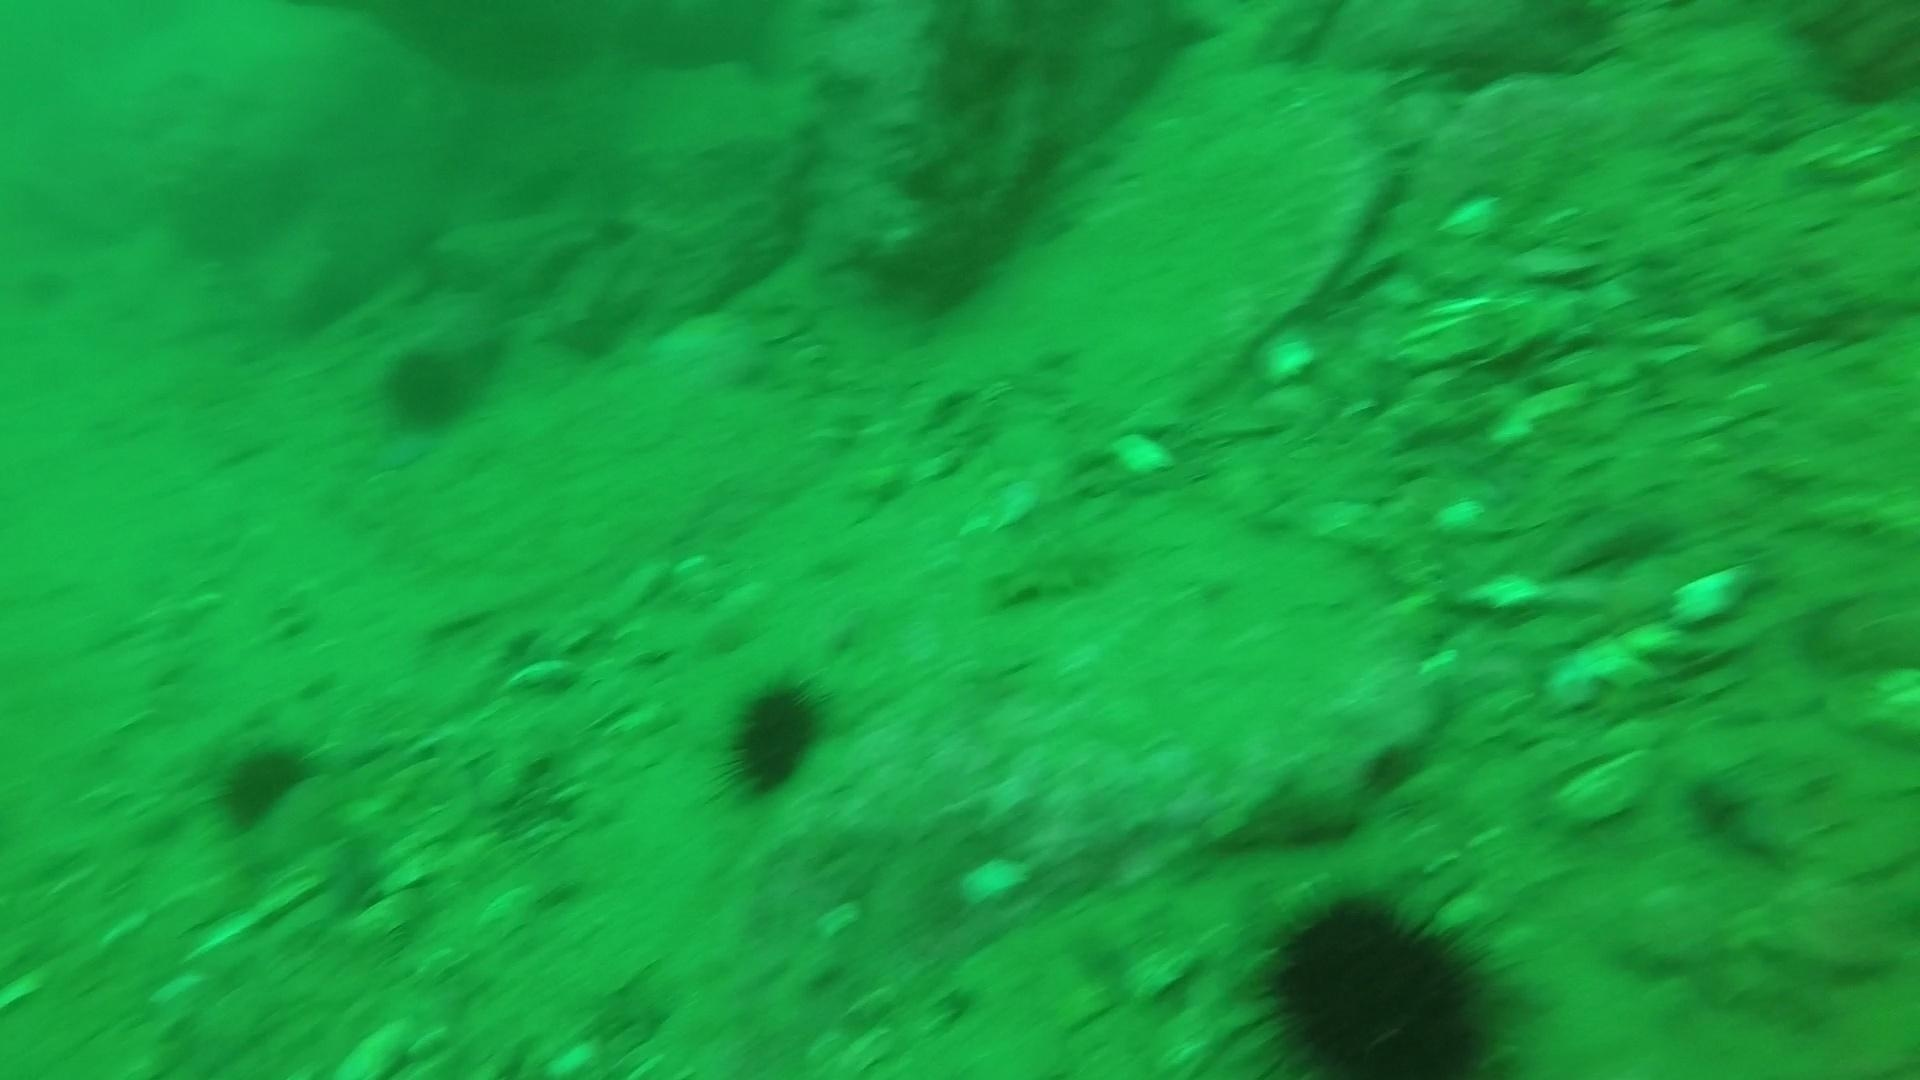echinus: (1242, 878, 1522, 1076), (713, 670, 833, 804), (207, 732, 318, 833), (373, 338, 483, 439)
